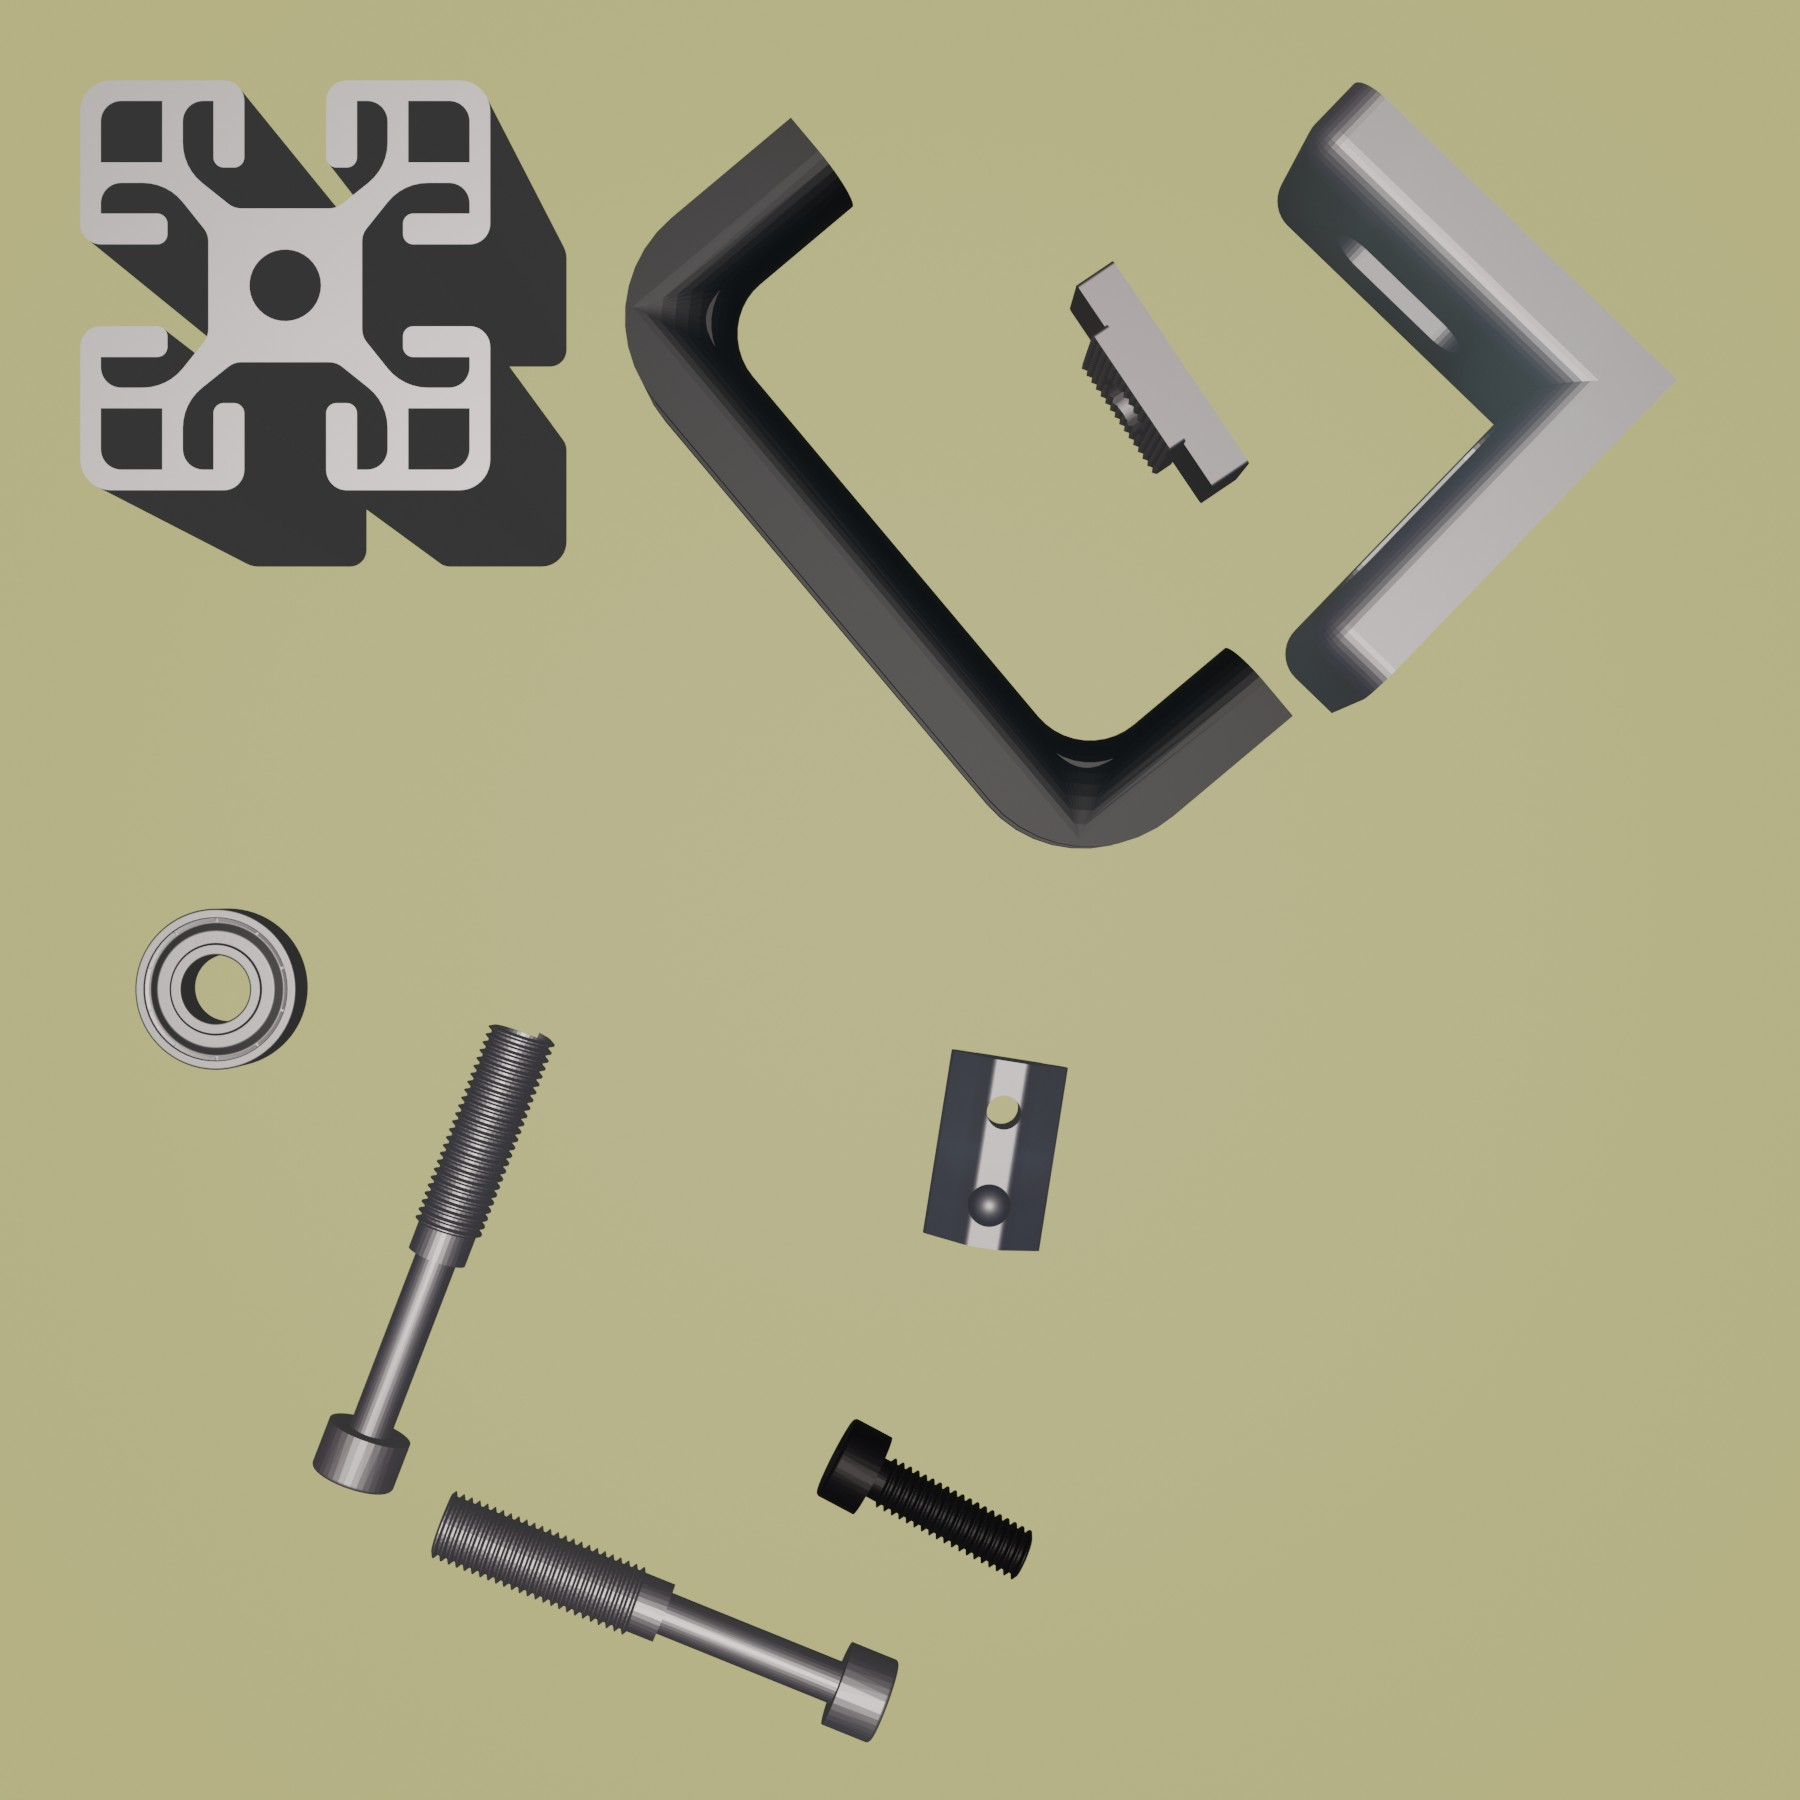Aluminium Extension: (73, 77, 570, 572)
Ball Bearing: (132, 903, 308, 1075)
Multiwinkel: (1276, 77, 1675, 715)
Pull Handle: (621, 115, 1292, 851)
Shoulder Socket Head Cap Screw: (427, 1488, 900, 1746), (308, 1019, 559, 1497)
Socket Head Cap Screw: (813, 1416, 1037, 1582)
T Nut Square: (1066, 259, 1251, 508)
T Spring Nut: (916, 1047, 1071, 1254)
